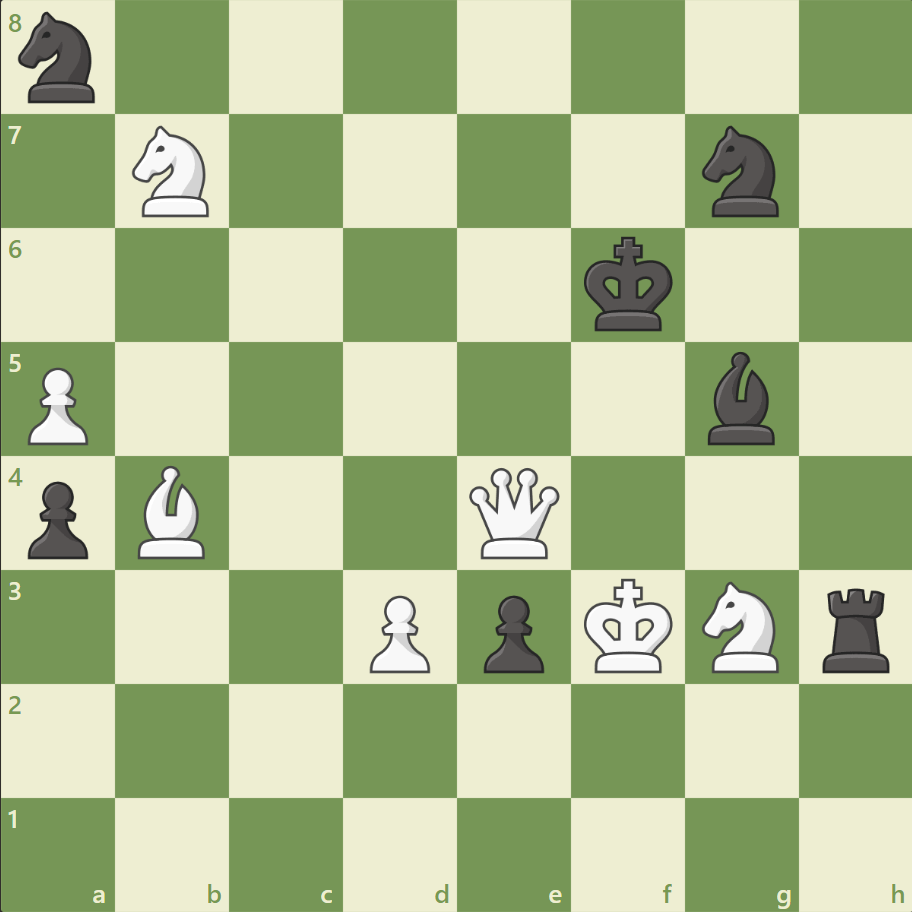B: (131, 460, 215, 563)
K: (579, 571, 679, 679)
N: (124, 121, 222, 223), (692, 575, 789, 677)
P: (20, 359, 95, 450), (361, 586, 435, 677)
Q: (464, 463, 563, 562)
b: (698, 347, 782, 449)
k: (579, 231, 679, 339)
n: (11, 7, 108, 110), (692, 121, 789, 223)
p: (20, 473, 95, 564), (474, 586, 549, 677)
r: (814, 579, 897, 676)
